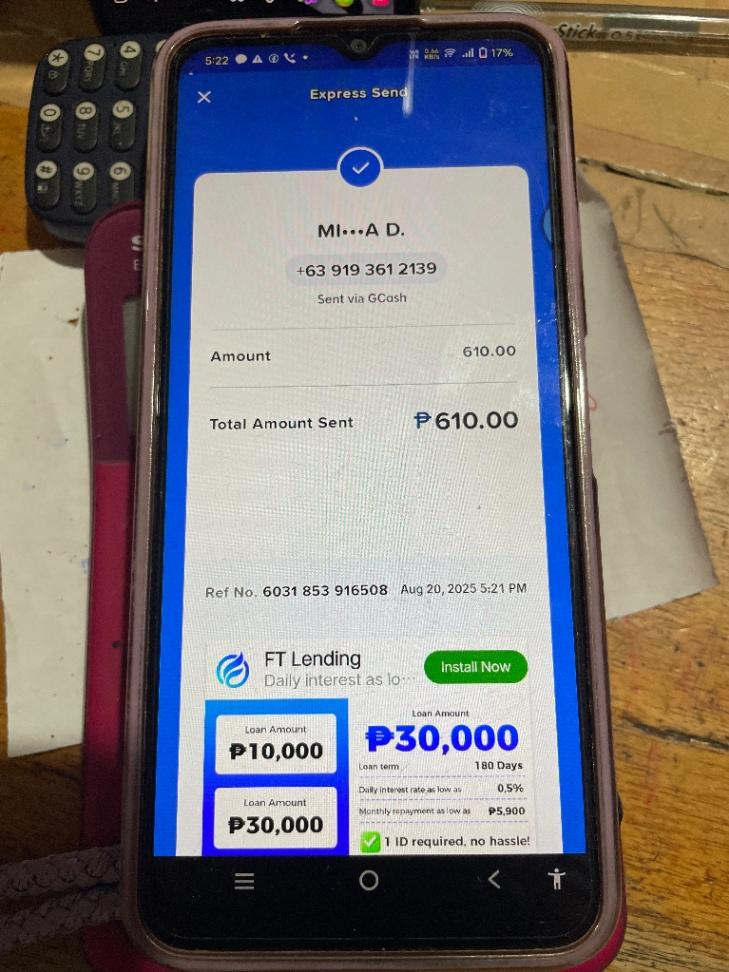Receipt: (153, 70, 586, 853)
